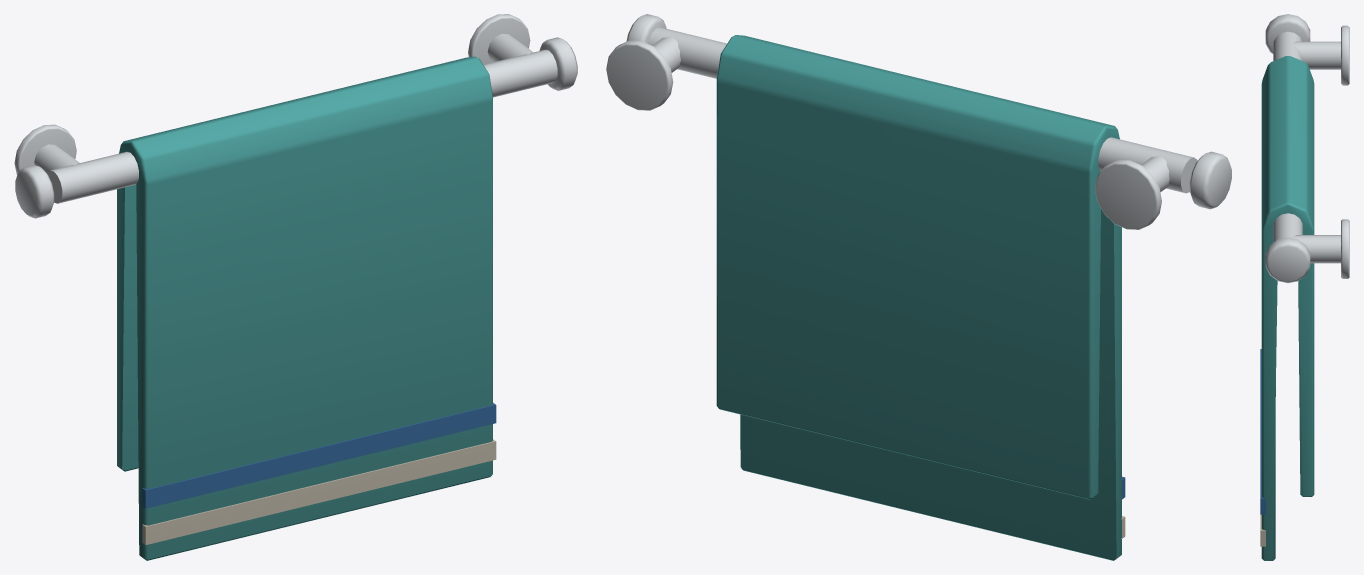
The model's file is TowelRail_01.glb.
3 renders of one model, left to right at view 1: azimuth 30°, elevation 25°; view 2: azimuth 150°, elevation 25°; view 3: azimuth 270°, elevation 25°, orthographic. The views are drawn at different scales.
Visible parts, largest first — view 1: SM_TowelRail_01; view 2: SM_TowelRail_01; view 3: SM_TowelRail_01.
Part boxes in pixels (bbox=[...]): SM_TowelRail_01: bbox=[14, 14, 577, 560]; SM_TowelRail_01: bbox=[606, 14, 1231, 560]; SM_TowelRail_01: bbox=[1260, 14, 1349, 560].
Bounding box in the file's own units: 0.62 × 0.454 × 0.1015.
Materials: 1 (1 with a texture image).
